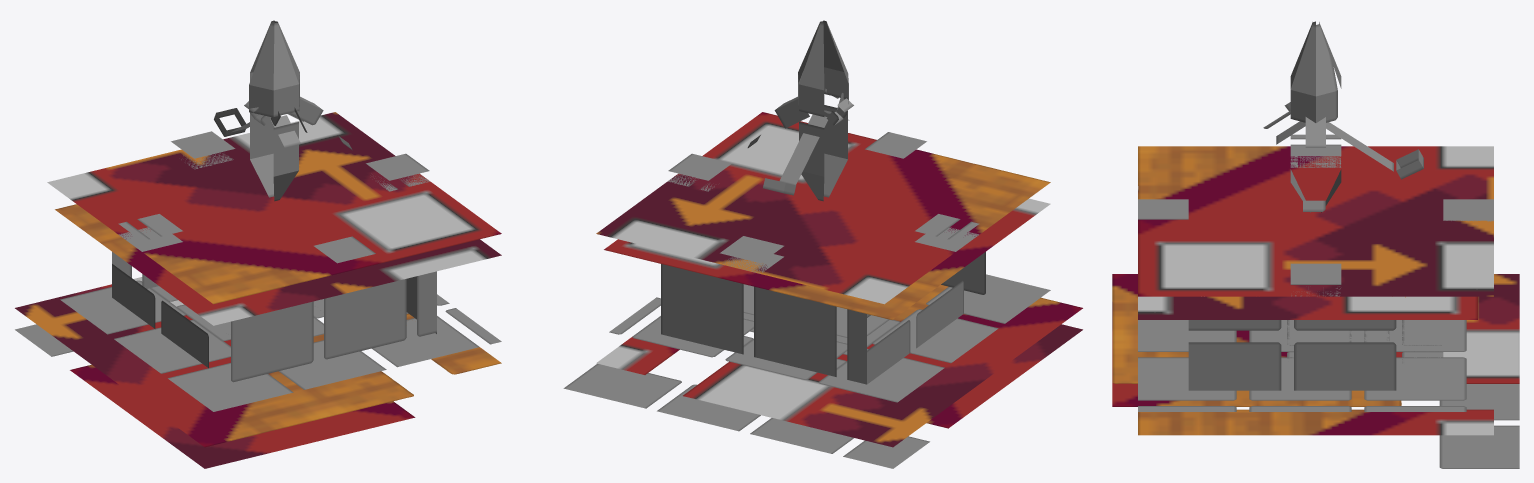
File: sorcery_extractor.obj
3 renders of one model, left to right at view 1: azimuth 30°, elevation 25°; view 2: azimuth 150°, elevation 25°; view 3: azimuth 270°, elevation 25°, orthographic. The views are drawn at different scales.
Parts seen in each view (by area): view 1: top, bottom_1, z, bottom_2, core, input_3, input_2, input_1, input_4; view 2: top, bottom_1, z, bottom_2, core, input_2, input_3, input_1, column_3_2, input_4, column_2_2; view 3: top, bottom_2, bottom_1, z, core, input_3, input_1, input_2, input_4, column_3_2, column_2_2, column_3_1 (+1 smaller).
Part boxes in pixels (<box>): top: <box>47,112,501,325</box>; bottom_1: <box>15,277,415,468</box>; z: <box>112,252,436,382</box>; bottom_2: <box>60,280,501,411</box>; core: <box>249,20,299,201</box>; input_3: <box>118,214,182,251</box>; input_2: <box>171,131,235,169</box>; input_1: <box>366,153,429,191</box>; input_4: <box>314,236,375,263</box>; top: <box>596,112,1050,319</box>; bottom_1: <box>563,285,1082,468</box>; z: <box>661,252,985,384</box>; bottom_2: <box>596,274,1050,402</box>; core: <box>798,20,848,201</box>; input_2: <box>720,236,783,273</box>; input_3: <box>915,214,979,251</box>; input_1: <box>668,153,731,191</box>; column_3_2: <box>779,114,827,185</box>; input_4: <box>865,132,926,158</box>; column_2_2: <box>774,96,809,128</box>; top: <box>1138,146,1493,319</box>; bottom_2: <box>1138,320,1493,435</box>; bottom_1: <box>1112,274,1519,468</box>; z: <box>1188,297,1443,390</box>; core: <box>1290,21,1341,212</box>; input_3: <box>1290,134,1341,167</box>; input_1: <box>1290,263,1341,296</box>; input_2: <box>1443,199,1493,225</box>; input_4: <box>1138,199,1188,219</box>; column_3_2: <box>1326,122,1393,171</box>; column_2_2: <box>1305,117,1325,147</box>; column_3_1: <box>1396,149,1423,179</box>.
Bounding box in the file's own units: 1 × 1 × 1.
